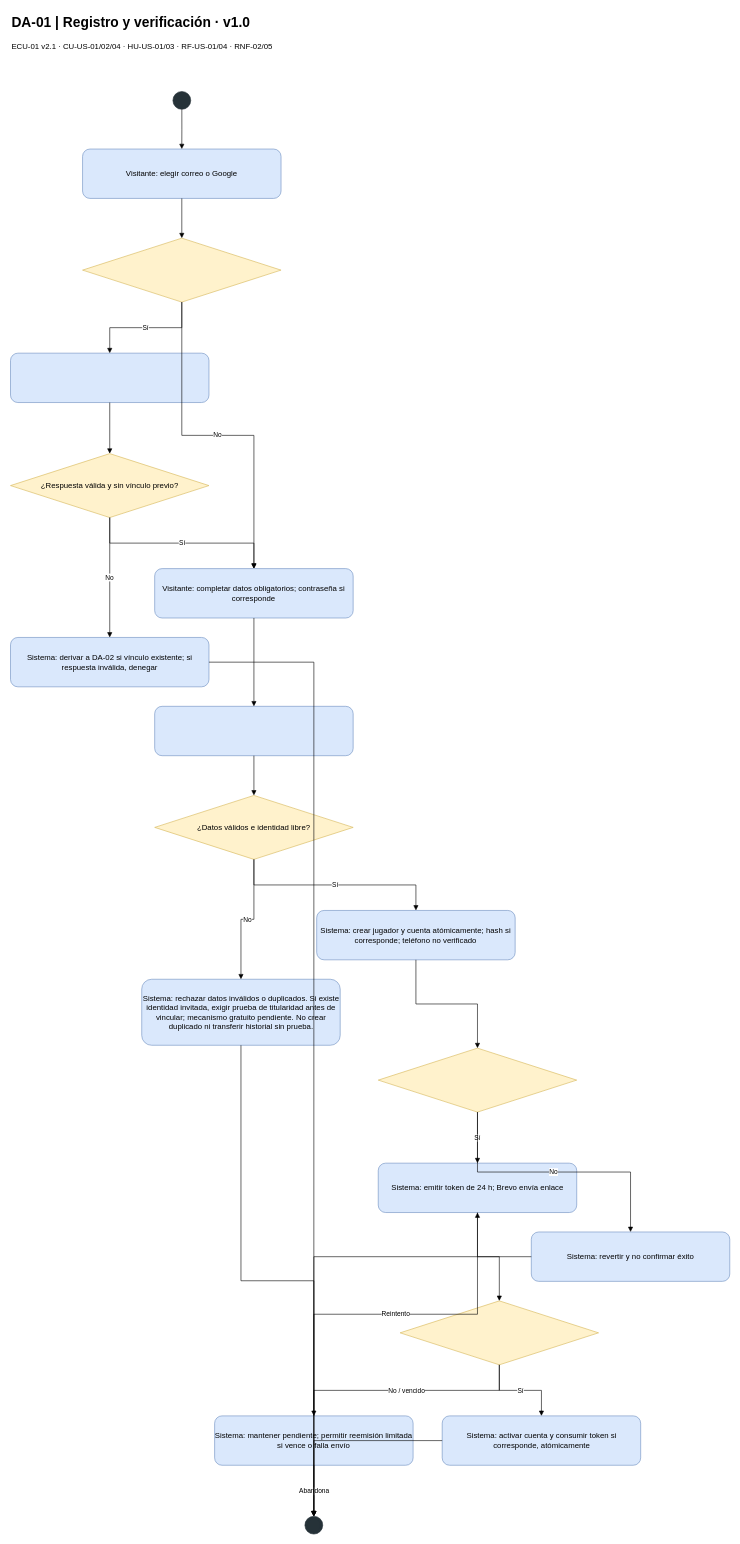
The diagram is 740 pixels wide and 1544 high, and some of its shapes have lost their labels. Each missing label, with the centre of its shape:
"Sistema / Google: validar OIDC, emisor, audiencia, state y nonce" belongs at point 109,378.
"Sistema: validar edad ≥18, datos, unicidad y contraseña segura si corresponde" belongs at point 253,731.
"¿Correo verificado mediante prueba válida?" belongs at point 499,1332.
"¿Google?" belongs at point 181,270.
"¿Persistencia exitosa?" belongs at point 477,1080.
